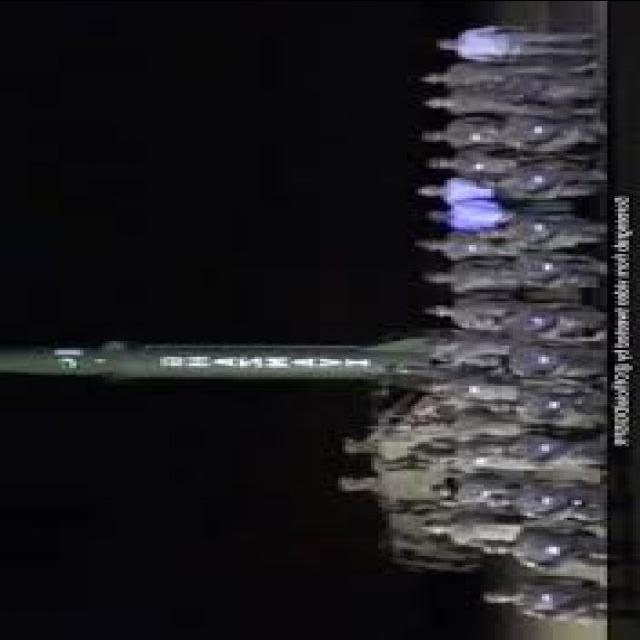Missile: (0, 330, 443, 396)
